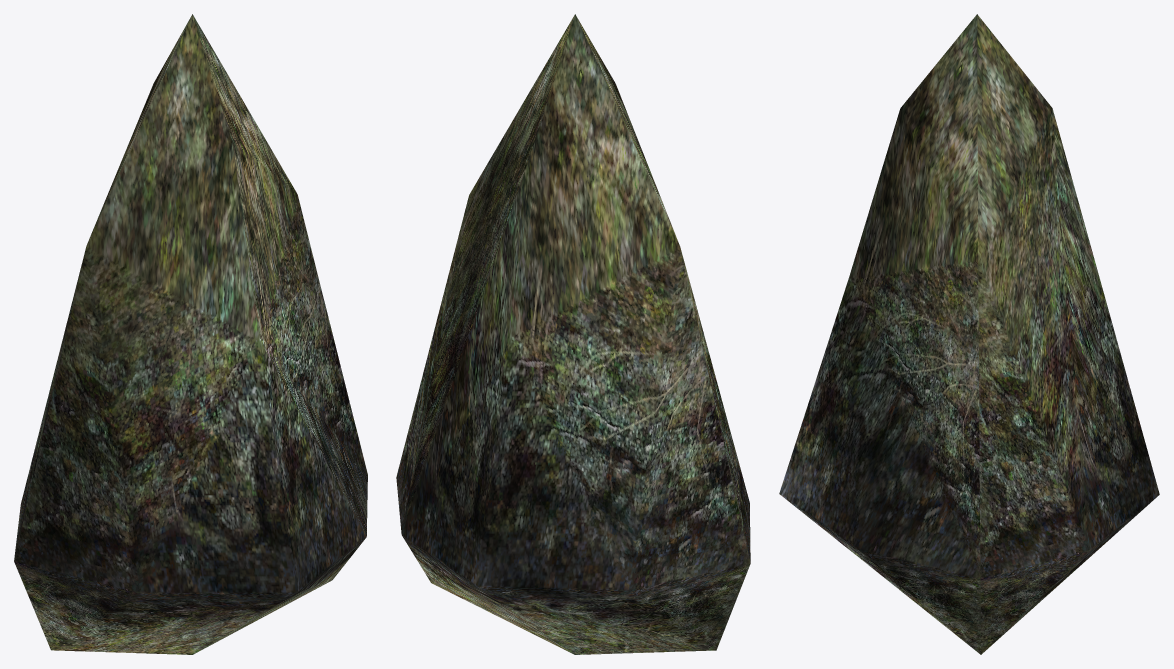
File: thm_all_cave_stalagmite_damprock_b1_l2.fbx
3 views of the same model, side by side, from view 1: azimuth 30°, elevation 25°; view 2: azimuth 150°, elevation 25°; view 3: azimuth 270°, elevation 25° (orthographic). The views are drawn at different scales.
Parts seen in each view (by area): view 1: mesh_node; view 2: mesh_node; view 3: mesh_node.
Boxes of the visible parts, x1,y1,x2,y2 form: mesh_node: (14, 14, 367, 654); mesh_node: (396, 14, 750, 654); mesh_node: (779, 14, 1159, 654).
Size of the model in its own units: 2.28 by 3.95 by 2.23.
